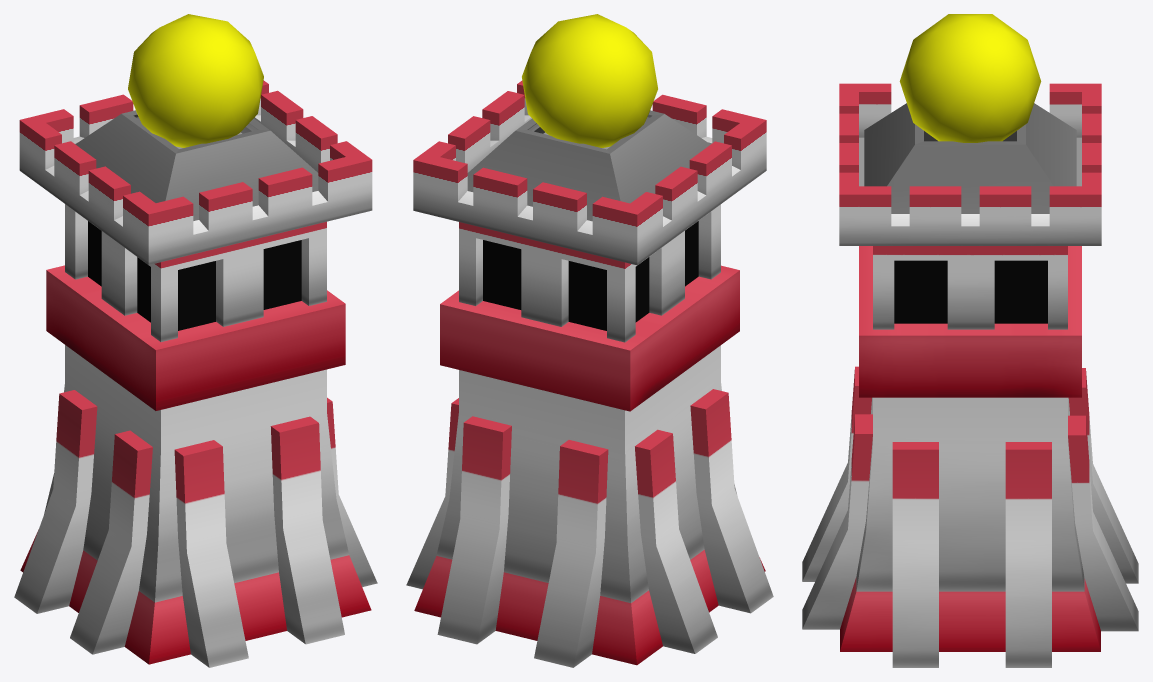
File: tower_lvl4.fbx
The picture shows the model from 3 angles, left to right: view 1: azimuth 30°, elevation 25°; view 2: azimuth 150°, elevation 25°; view 3: azimuth 270°, elevation 25°; orthographic projection.
Visible parts, largest first — view 1: tower_lvl4; view 2: tower_lvl4; view 3: tower_lvl4.
Part boxes in pixels (bbox=[...]): tower_lvl4: bbox=[14, 14, 377, 667]; tower_lvl4: bbox=[406, 14, 773, 667]; tower_lvl4: bbox=[802, 14, 1138, 667].
Bounding box in the file's own units: 36.9 × 70.12 × 36.9.
